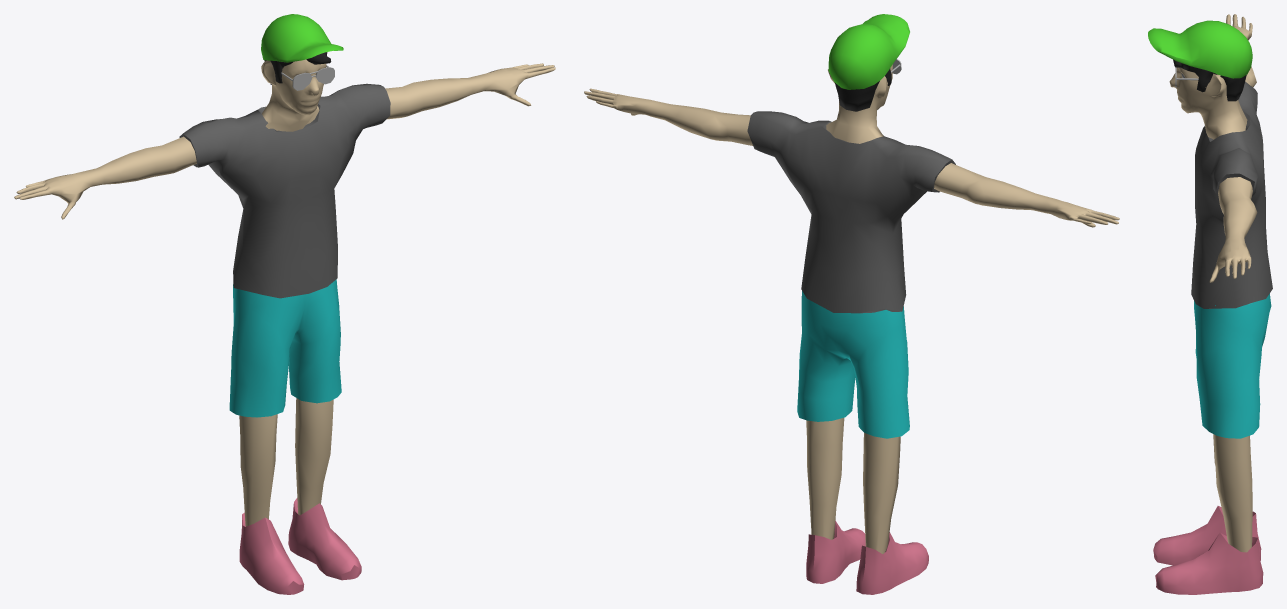
The model's file is semrigged.fbx.
The picture shows the model from 3 angles, left to right: view 1: azimuth 30°, elevation 25°; view 2: azimuth 150°, elevation 25°; view 3: azimuth 270°, elevation 25°; orthographic projection.
Visible parts, largest first — view 1: SEM; view 2: SEM; view 3: SEM.
Boxes of the visible parts, <box> form: SEM: <box>14,14,555,594</box>; SEM: <box>584,14,1119,594</box>; SEM: <box>1148,14,1272,594</box>.
Bounding box in the file's own units: 1.96 × 1.9 × 0.3929.
